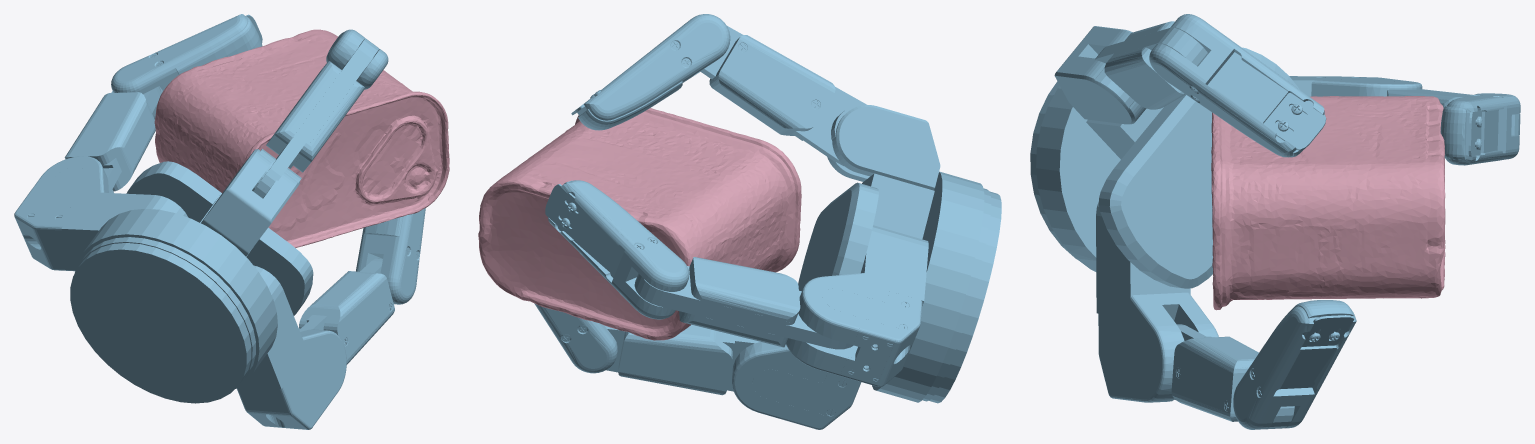
3 views of the same model, side by side, from view 1: azimuth 30°, elevation 25°; view 2: azimuth 150°, elevation 25°; view 3: azimuth 270°, elevation 25° (orthographic). The views are drawn at different scales.
Visible parts, largest first — view 1: world; view 2: world; view 3: world.
Boxes of the visible parts, x1,y1,x2,y2 form: world: (14, 14, 449, 429); world: (478, 14, 1001, 429); world: (1030, 14, 1520, 429).
Bounding box in the file's own units: 0.1956 × 0.1711 × 0.1751.
